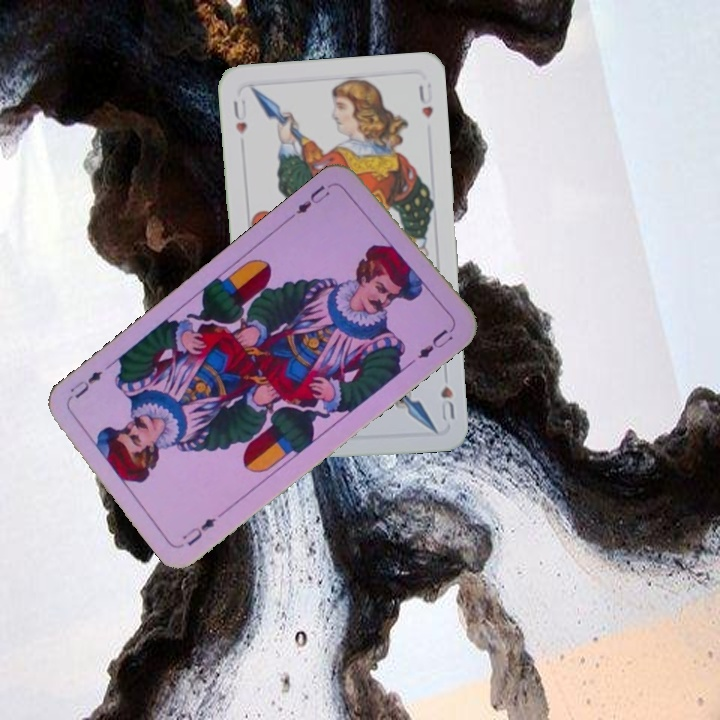EU: (287, 178, 338, 220), (177, 513, 219, 549)
HU: (434, 383, 458, 423), (229, 95, 249, 136)
